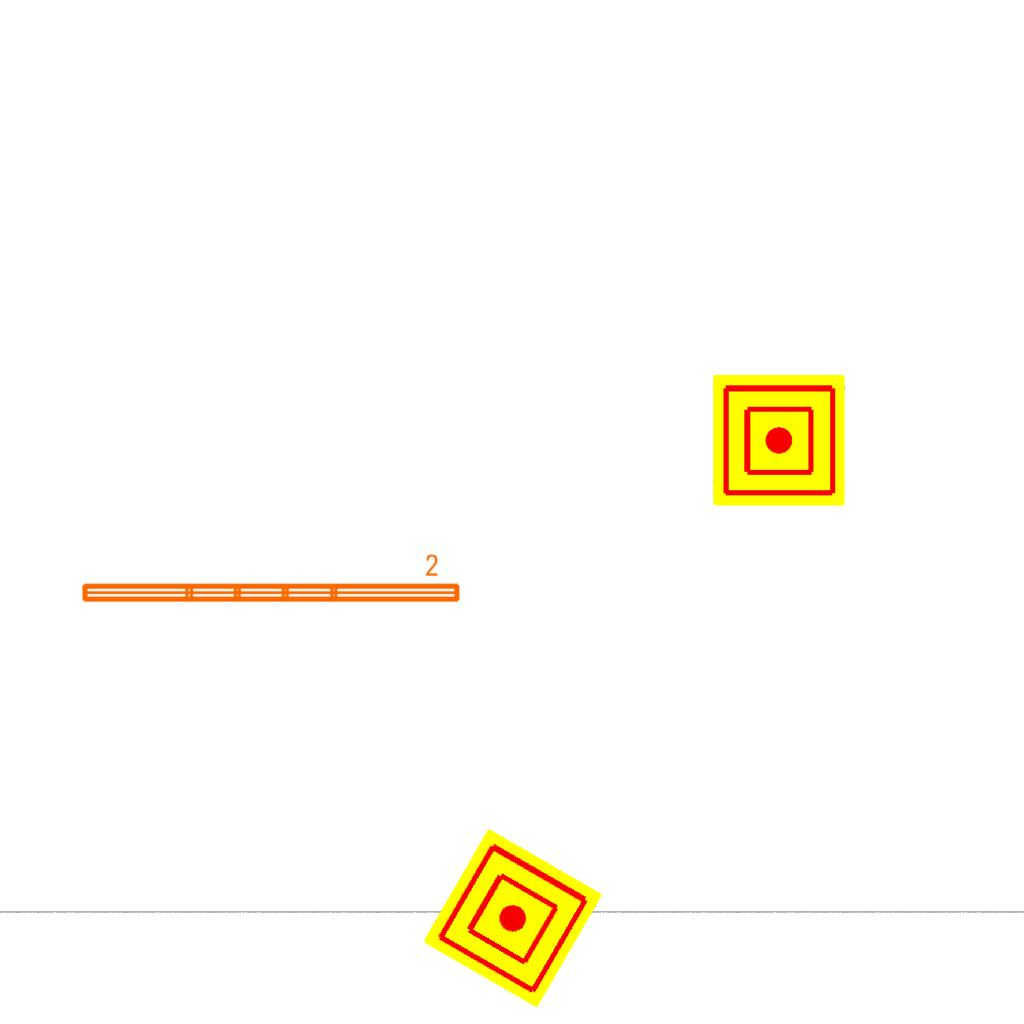Ambulanz_Pendelleuchte_LED: (77, 552, 464, 608)
NAM-Nichtautomatischer_Melder: (422, 827, 604, 1009), (713, 374, 845, 506)
